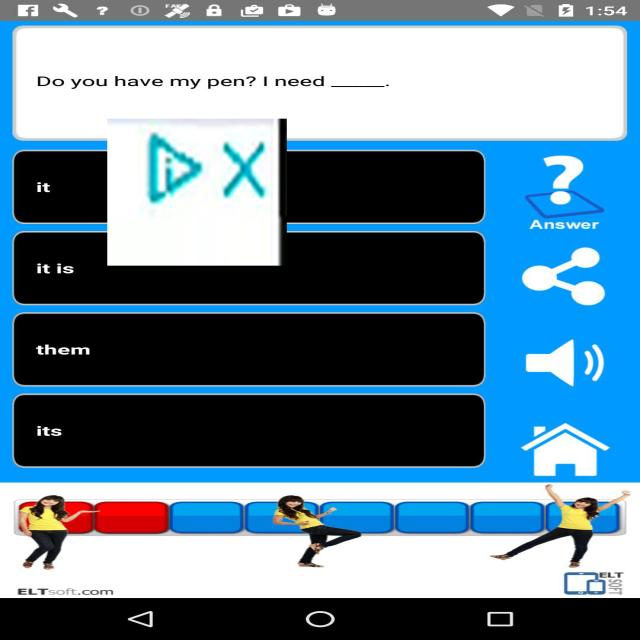sneaking: (107, 118, 287, 266)
